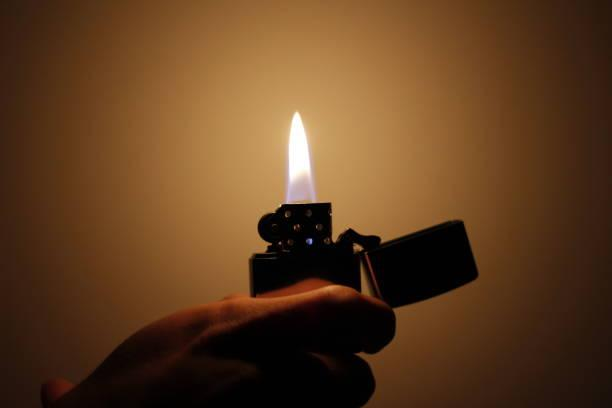Fire: (286, 111, 316, 203)
